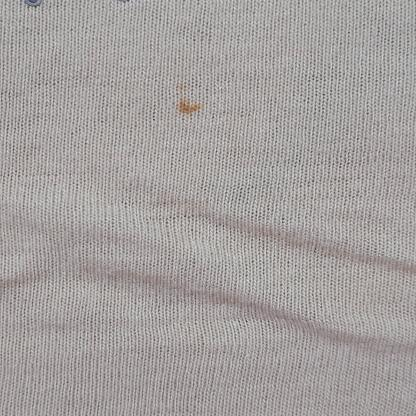spot: (158, 77, 208, 121)
